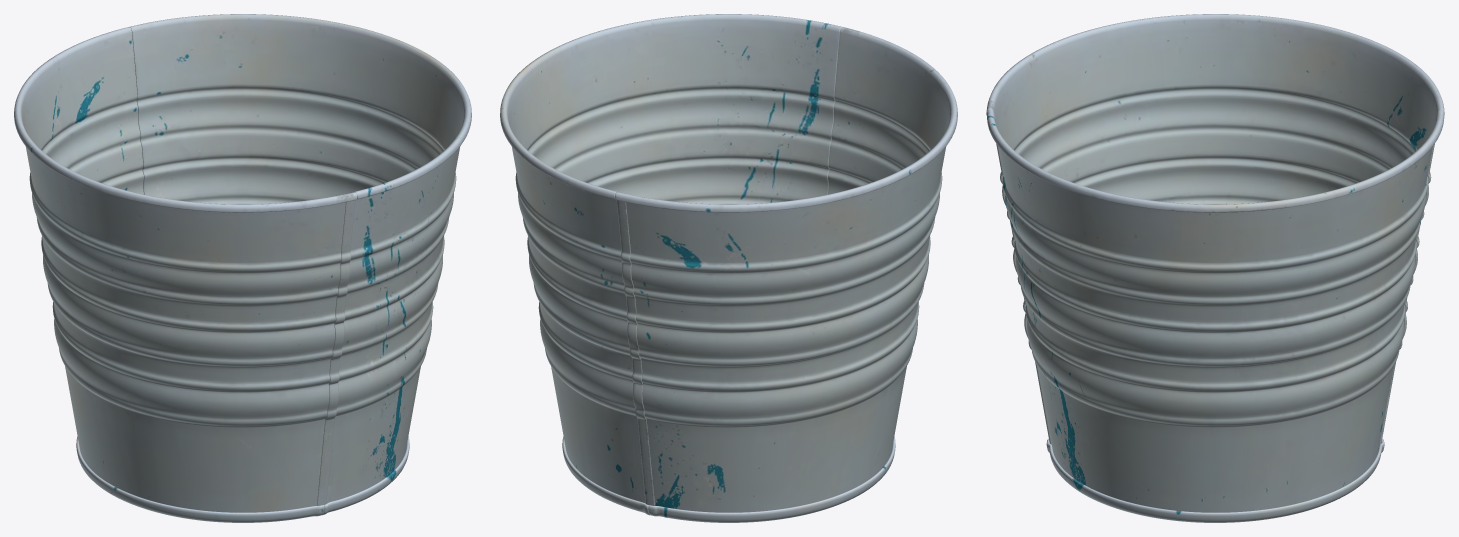
Rendered from cleaning_bucket_iron_a01.glb.
The picture shows the model from 3 angles, left to right: view 1: azimuth 30°, elevation 25°; view 2: azimuth 150°, elevation 25°; view 3: azimuth 270°, elevation 25°; orthographic projection.
Visible parts, largest first — view 1: bucket_01_mesh_00; view 2: bucket_01_mesh_00; view 3: bucket_01_mesh_00.
Boxes of the visible parts, x1,y1,x2,y2 form: bucket_01_mesh_00: [14, 14, 471, 522]; bucket_01_mesh_00: [500, 14, 957, 522]; bucket_01_mesh_00: [986, 14, 1444, 522].
Size of the model in its own units: 0.1576 by 0.1313 by 0.1577.
Materials: 1 (1 with a texture image).
